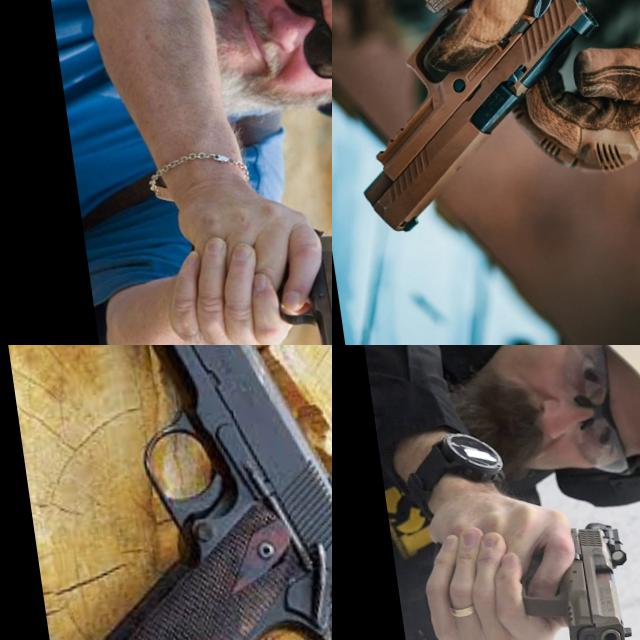handgun: (0, 345, 332, 640), (332, 0, 627, 241), (508, 516, 640, 640), (267, 218, 332, 345)
